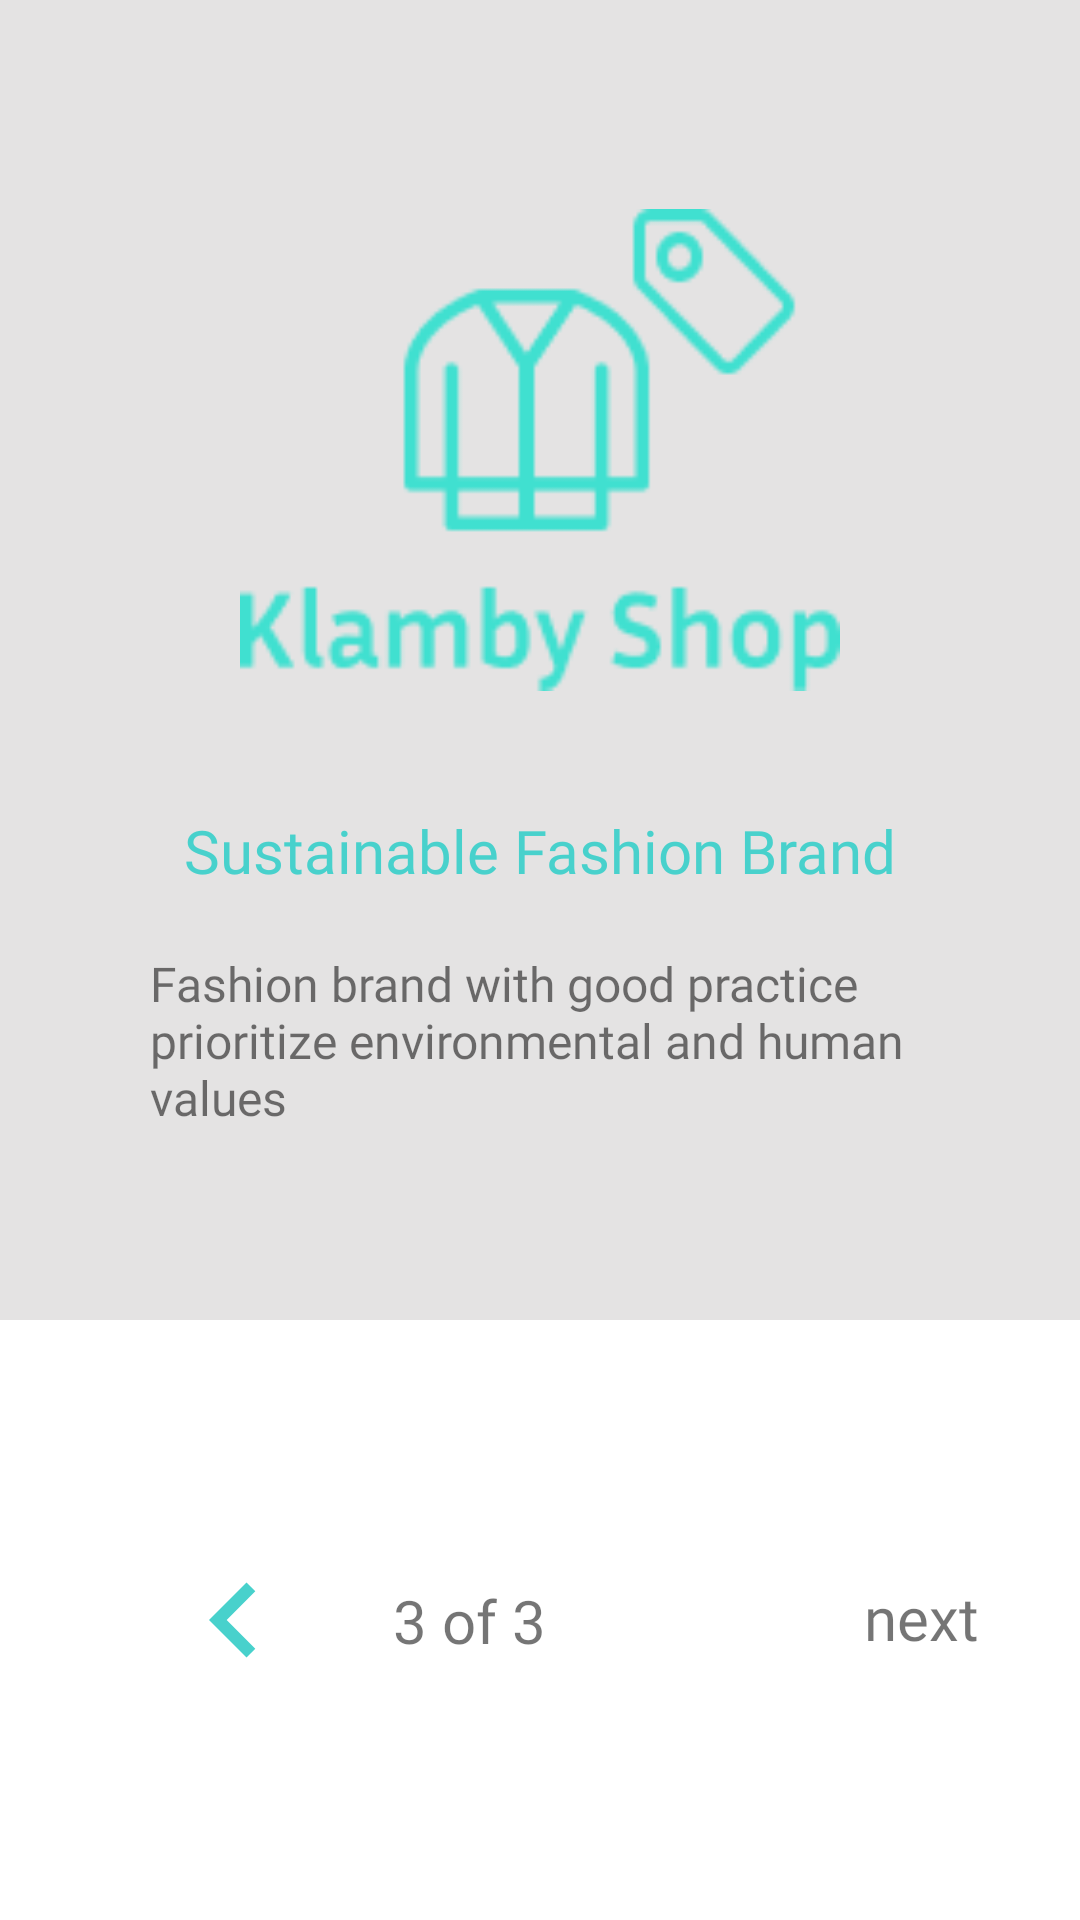

Locate icon controls on the screen. Image size 1080px×1920px, boxes as (x1, y1, x2, y2).
keyboard arrow left: (209, 1582, 255, 1658)
